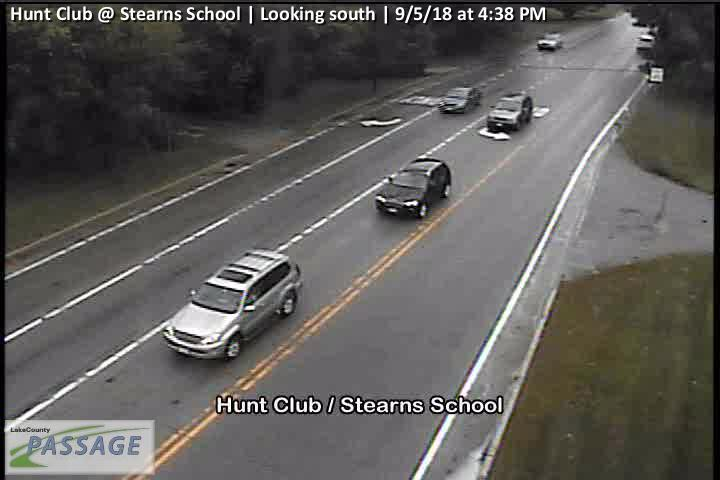SUV: (159, 248, 303, 361), (375, 156, 451, 218), (487, 92, 533, 133), (635, 33, 655, 51)
Sedan: (438, 86, 482, 114), (537, 31, 563, 51)
